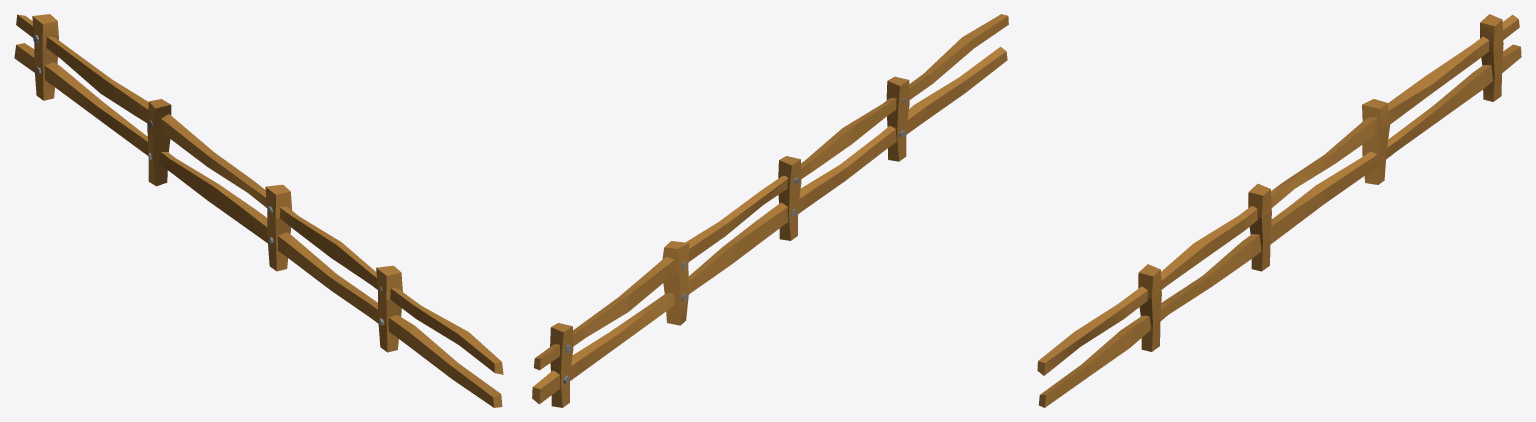
File: Barrière_Début.fbx
The picture shows the model from 3 angles, left to right: view 1: azimuth 30°, elevation 25°; view 2: azimuth 150°, elevation 25°; view 3: azimuth 330°, elevation 25°; orthographic projection. The views are drawn at different scales.
Visible parts, largest first — view 1: Barrière_Début; view 2: Barrière_Début; view 3: Barrière_Début.
Boxes of the visible parts, x1=… form: Barrière_Début: x1=14, y1=14, x2=503, y2=407; Barrière_Début: x1=532, y1=14, x2=1008, y2=407; Barrière_Début: x1=1037, y1=14, x2=1521, y2=407.
Size of the model in its own units: 38.1 by 143 by 1581.
1 material, 1 textured.
